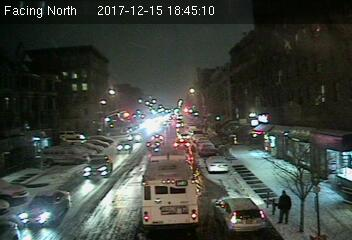bus: (140, 152, 199, 230)
car: (212, 197, 268, 235), (20, 188, 72, 226), (81, 156, 113, 179), (205, 156, 229, 173), (115, 139, 133, 151), (172, 139, 191, 150), (145, 141, 160, 149)
pedestrian: (277, 186, 291, 225)
